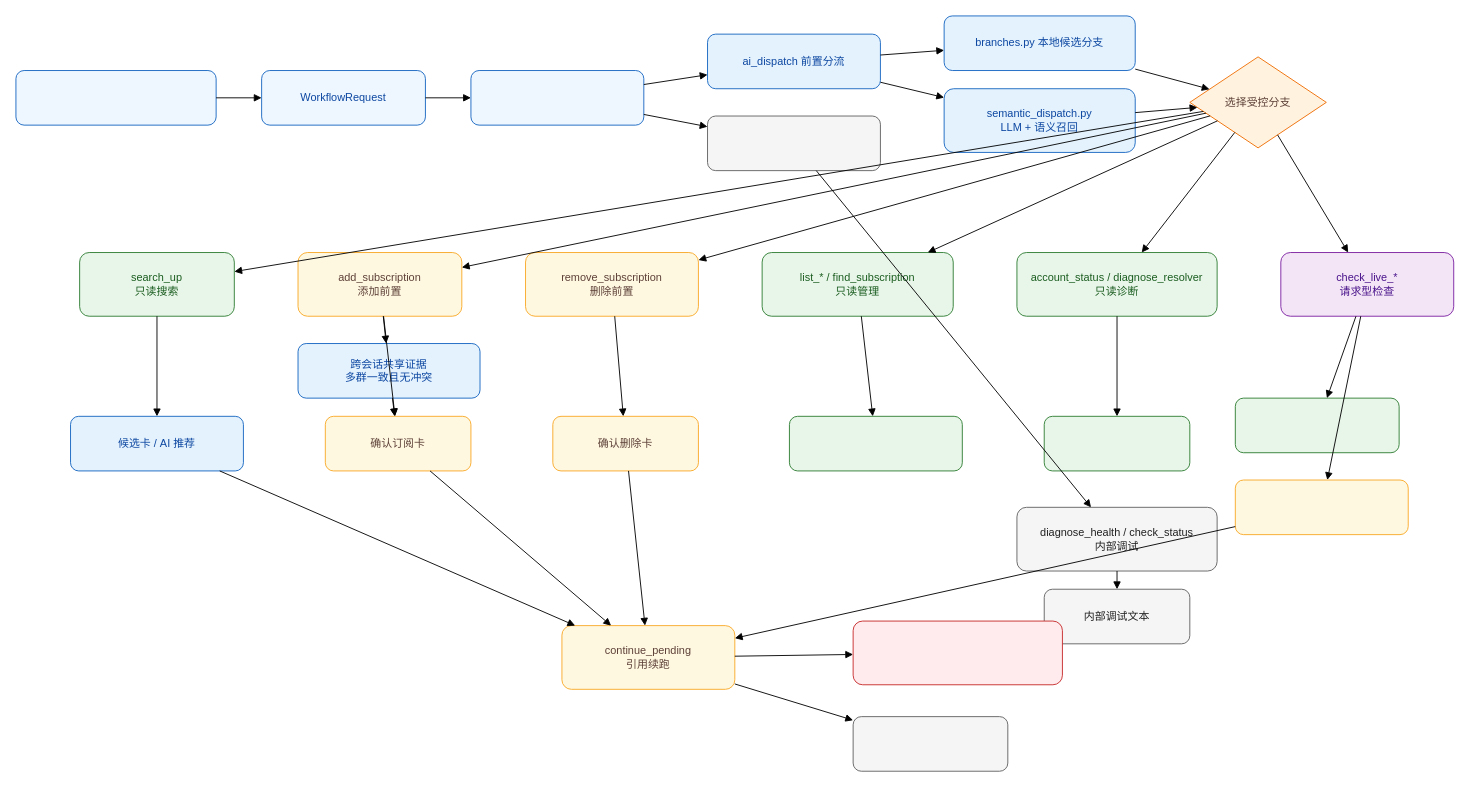
Some shapes in this 1470 by 787 pixel diagram are drawn without their labels. The centre of each missing label's shape, as x and y in pixels:
"runner.py 统一分发" belongs at (x=557, y=97).
"全部群检查确认卡" belongs at (x=1321, y=507).
"取消或过期" belongs at (x=930, y=743).
"只读诊断文本" belongs at (x=1116, y=443).
"当前群直接检查" belongs at (x=1316, y=425).
"显式 workflow" belongs at (x=793, y=143).
"用户自然语言 / 命令 / LLM tool" belongs at (x=115, y=97).
"确认后写库 / 删除 / 执行检查" belongs at (x=957, y=652).
"订阅列表卡 / 账号卡" belongs at (x=875, y=443).
